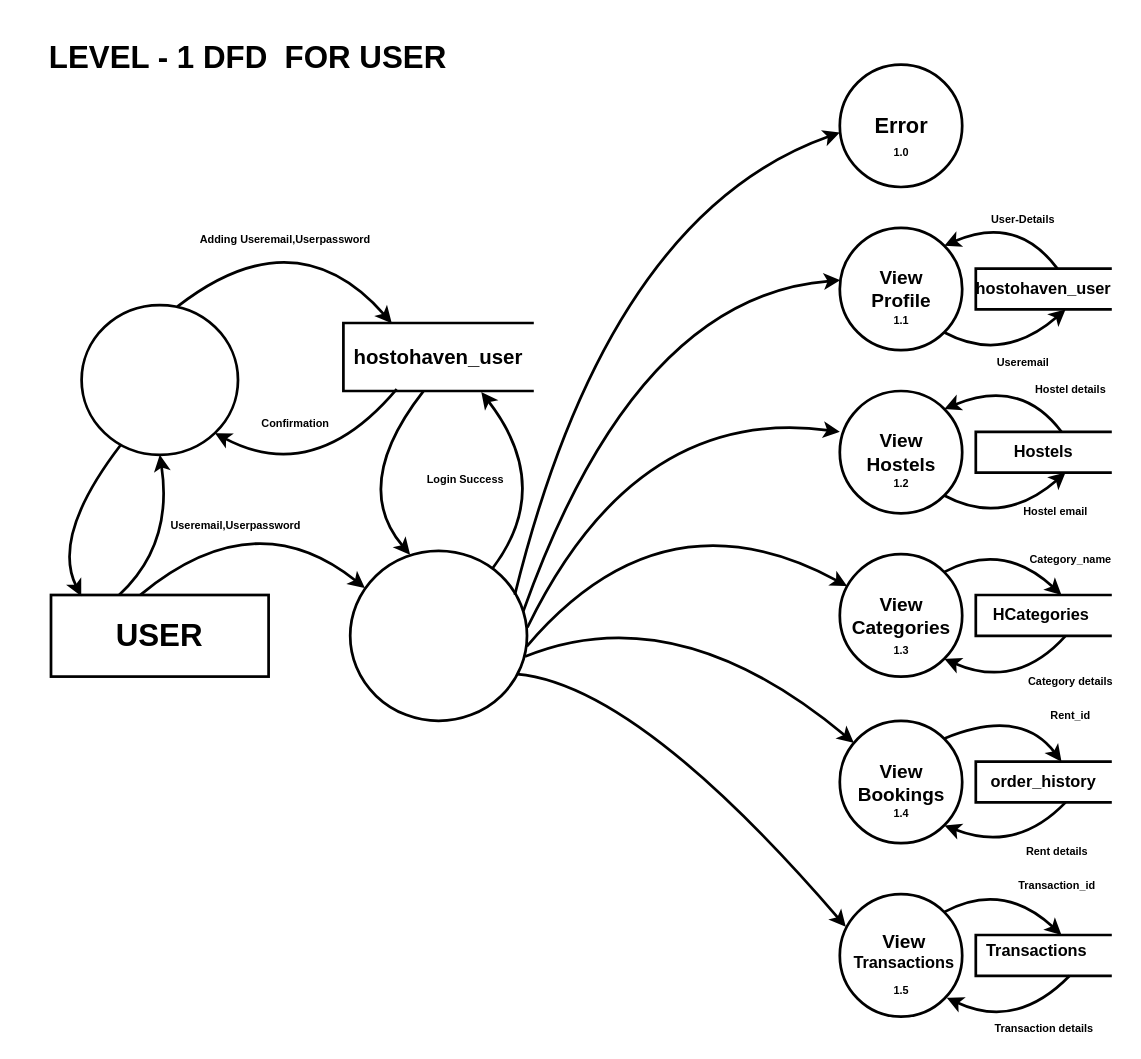
The diagram is 1141 pixels wide and 1059 high, and some of its shapes have lost their labels. The centre of each missing label's shape, as x and y in pixels:
"Login" goes at [438,635].
"Registration" goes at [159,379].
